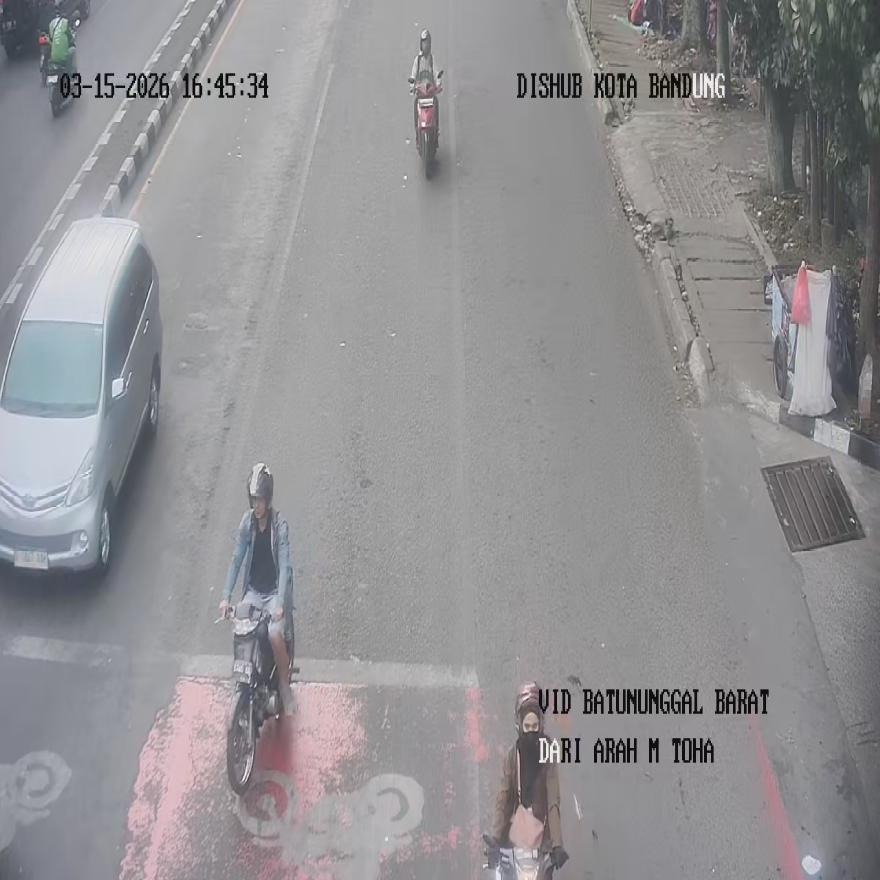Mobil: (0, 218, 162, 576)
Motor: (216, 605, 293, 793), (38, 25, 76, 118), (481, 832, 554, 880), (409, 71, 441, 178), (0, 0, 36, 57)
